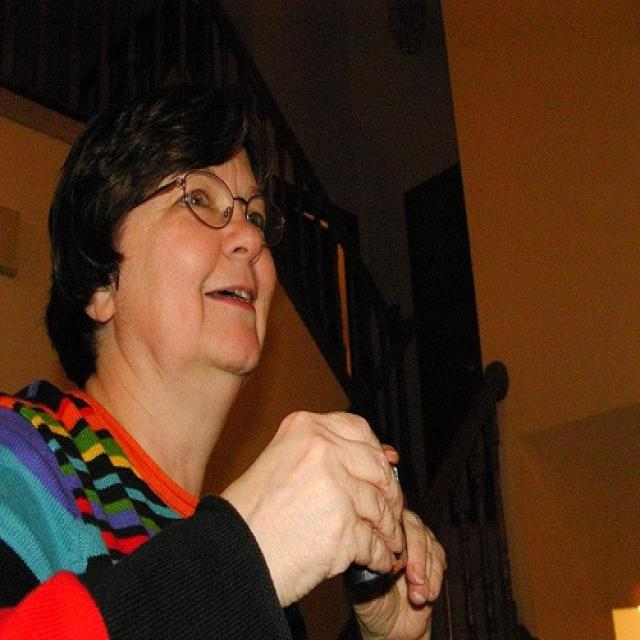person: (1, 82, 441, 639)
